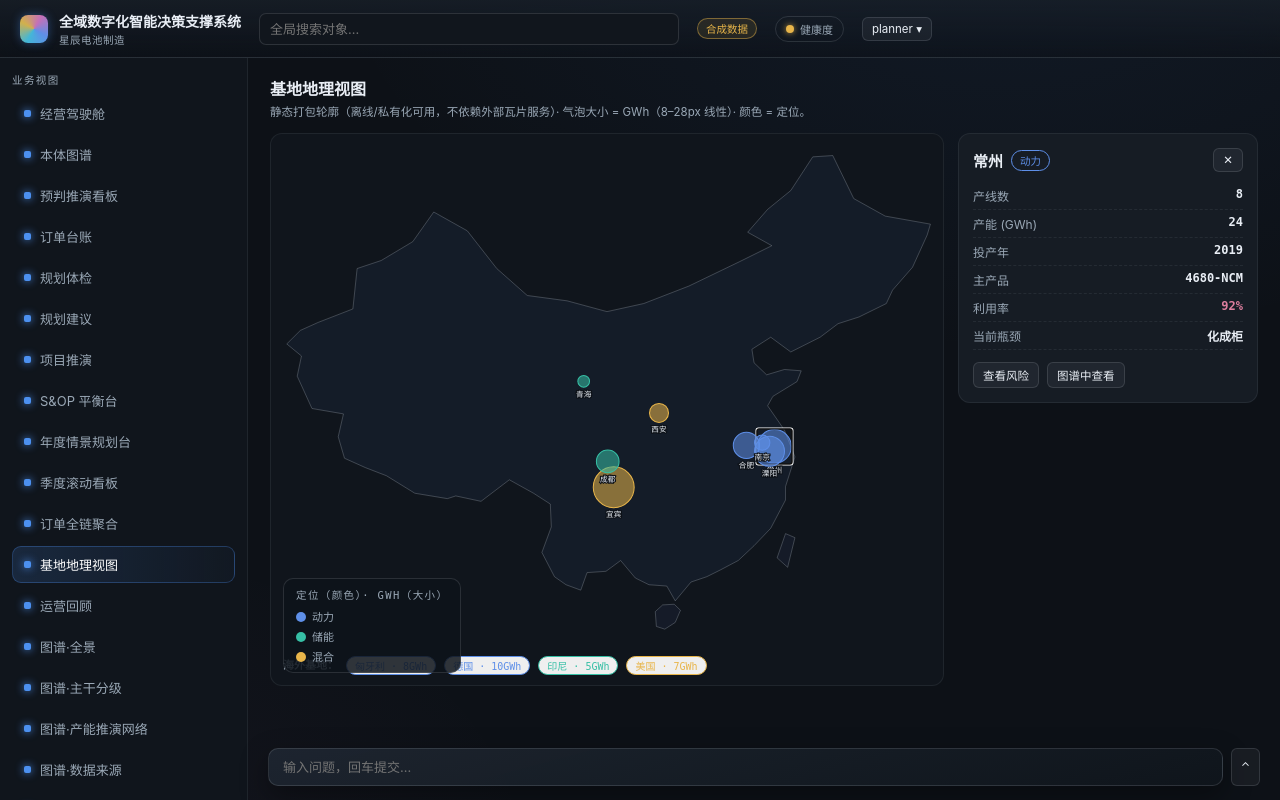
F24 · 地理视图（geo-map） › 点击气泡 → selectedObjects + 档案卡（利用率色档/瓶颈）+「查看风险」跳转
Earlier steps of the test are not shown.
Check: the element with test id "geo-base-card" shows "产线数", box [973,189,1009,204]
Check: the element with test id "geo-base-card" shows "8", box [1236,187,1243,201]
Click the button with test id "geo-goto-risk": (1006, 375) [973,362,1039,388]
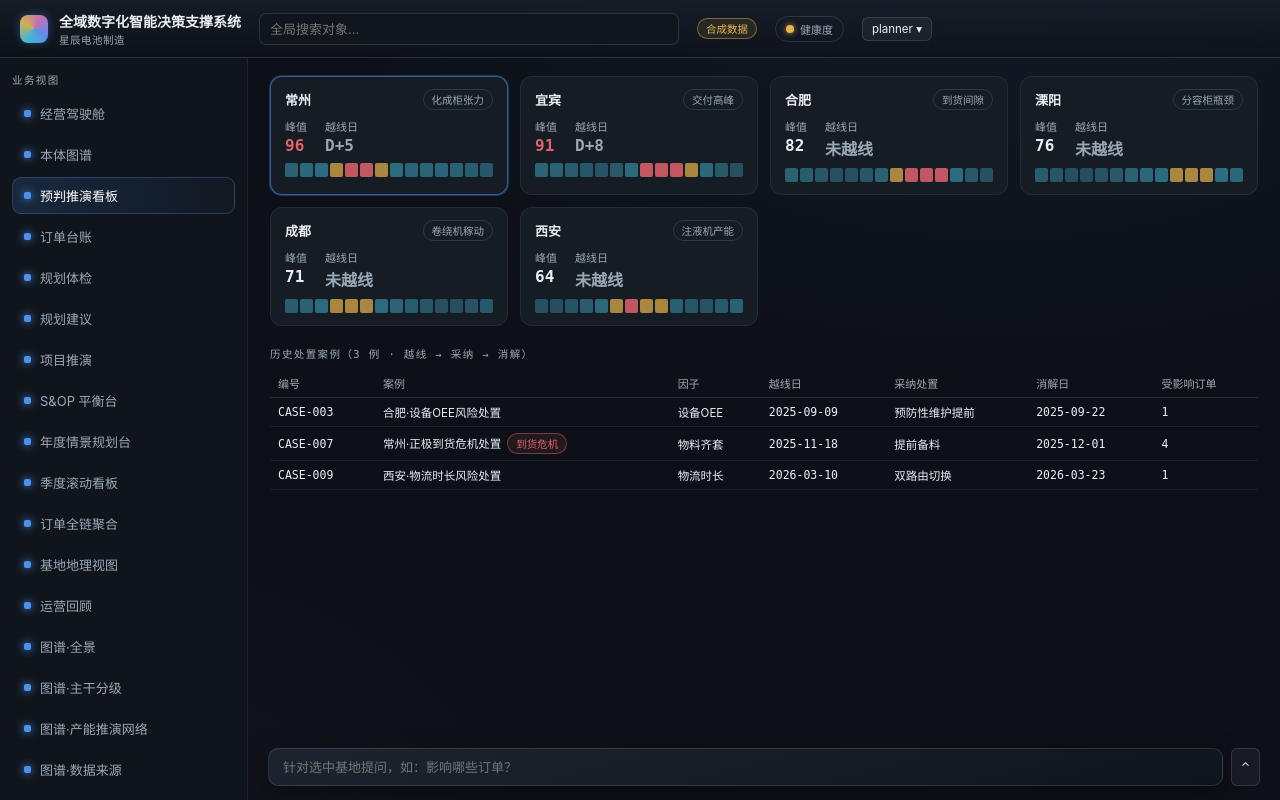
Check: the button with test id "risk-card-常州" is shown, box [270,76,508,195]
